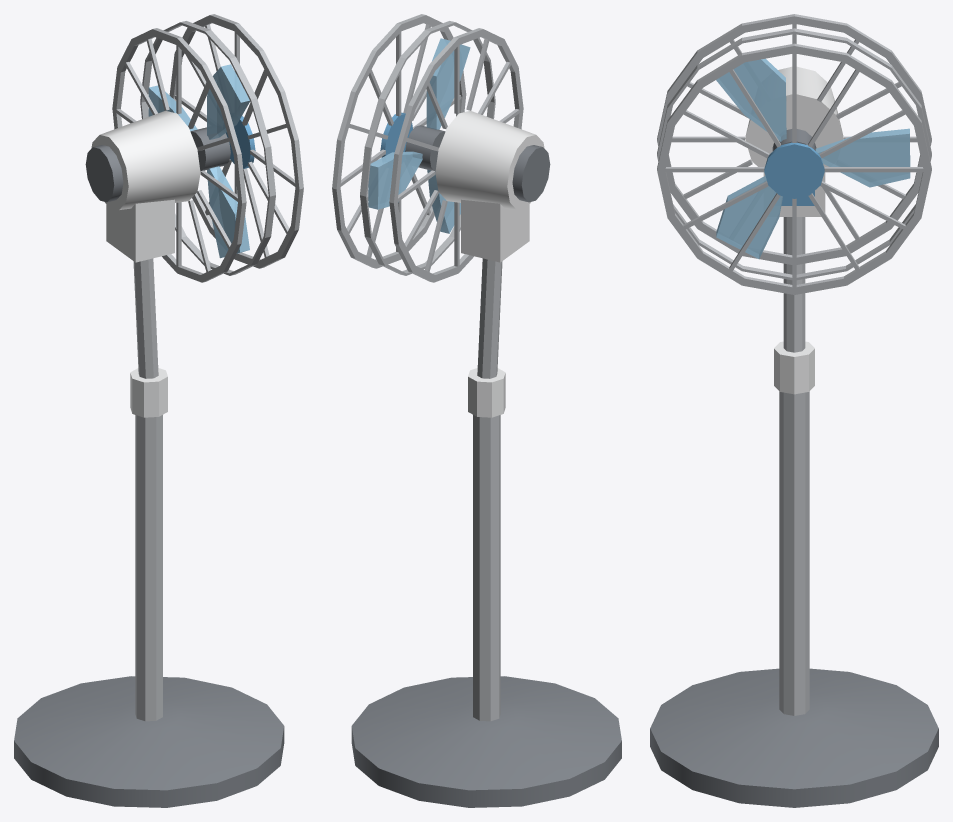
File: ventilador_coluna_medio.glb
The picture shows the model from 3 angles, left to right: view 1: azimuth 30°, elevation 25°; view 2: azimuth 150°, elevation 25°; view 3: azimuth 270°, elevation 25°; orthographic projection. The views are drawn at different scales.
Visible parts, largest first — view 1: corpo, helice; view 2: corpo, helice; view 3: corpo, helice.
Boxes of the visible parts, x1=… form: corpo: x1=14, y1=14, x2=303, y2=807; helice: x1=148, y1=64, x2=250, y2=258; corpo: x1=332, y1=14, x2=621, y2=807; helice: x1=368, y1=38, x2=470, y2=233; corpo: x1=650, y1=14, x2=938, y2=807; helice: x1=716, y1=58, x2=910, y2=258.
Size of the model in its own units: 0.42 by 1.2 by 0.42.
